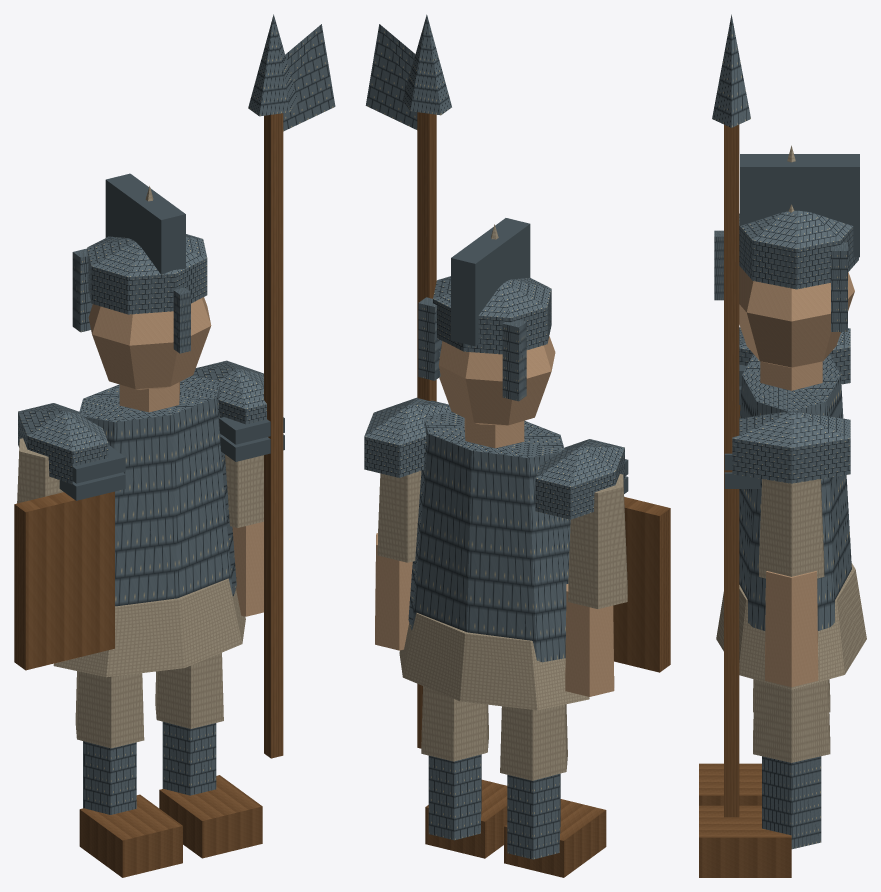
The model's file is unit-HALBERD-lod1.glb.
The picture shows the model from 3 angles, left to right: view 1: azimuth 30°, elevation 25°; view 2: azimuth 150°, elevation 25°; view 3: azimuth 270°, elevation 25°; orthographic projection. The views are drawn at different scales.
Size of the model in its own units: 0.225 by 0.565 by 0.098.
Materials: 1 (1 with a texture image).
